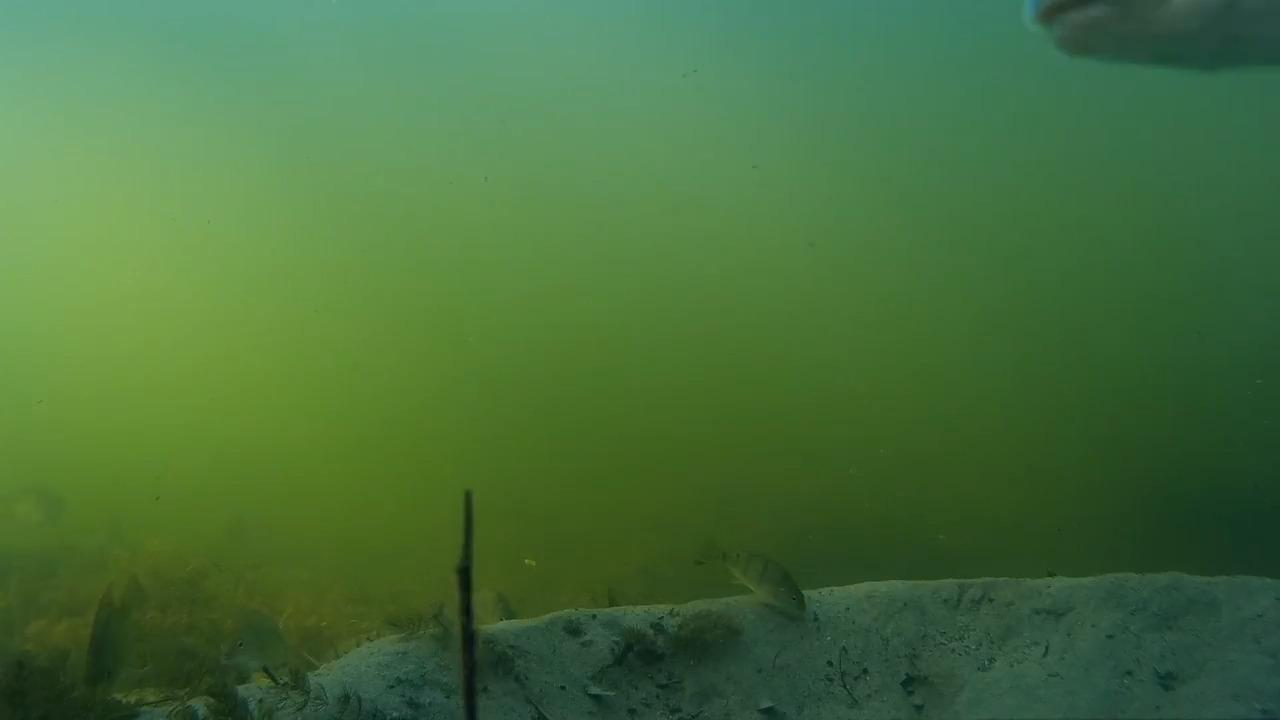Tilapia: (692, 530, 827, 642), (83, 558, 159, 698), (199, 604, 311, 674), (454, 574, 531, 652)
